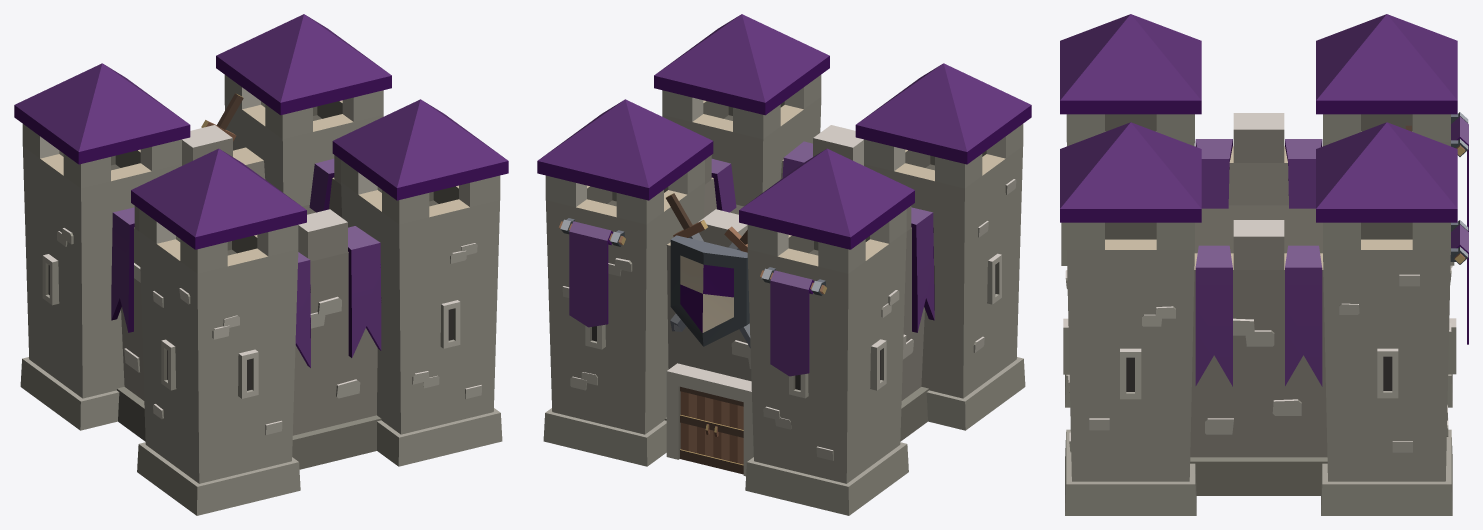
The model's file is Barracks_Lv4A.obj.
3 renders of one model, left to right at view 1: azimuth 30°, elevation 25°; view 2: azimuth 150°, elevation 25°; view 3: azimuth 270°, elevation 25°, orthographic. The views are drawn at different scales.
Visible parts, largest first — view 1: Barracks_Lv4A; view 2: Barracks_Lv4A; view 3: Barracks_Lv4A.
Boxes of the visible parts, x1,y1,x2,y2 form: Barracks_Lv4A: (14, 14, 508, 515); Barracks_Lv4A: (537, 14, 1031, 515); Barracks_Lv4A: (1060, 14, 1468, 515).
Bounding box in the file's own units: 8.7 × 8.83 × 8.94.
1 material, 1 textured.
